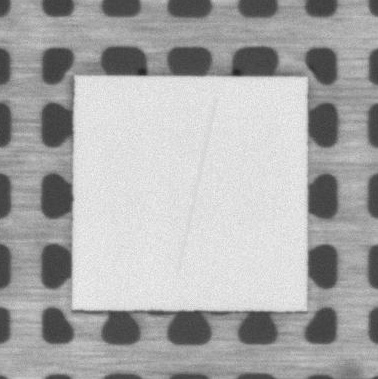DIE_CRACK: (178, 99, 215, 274)
